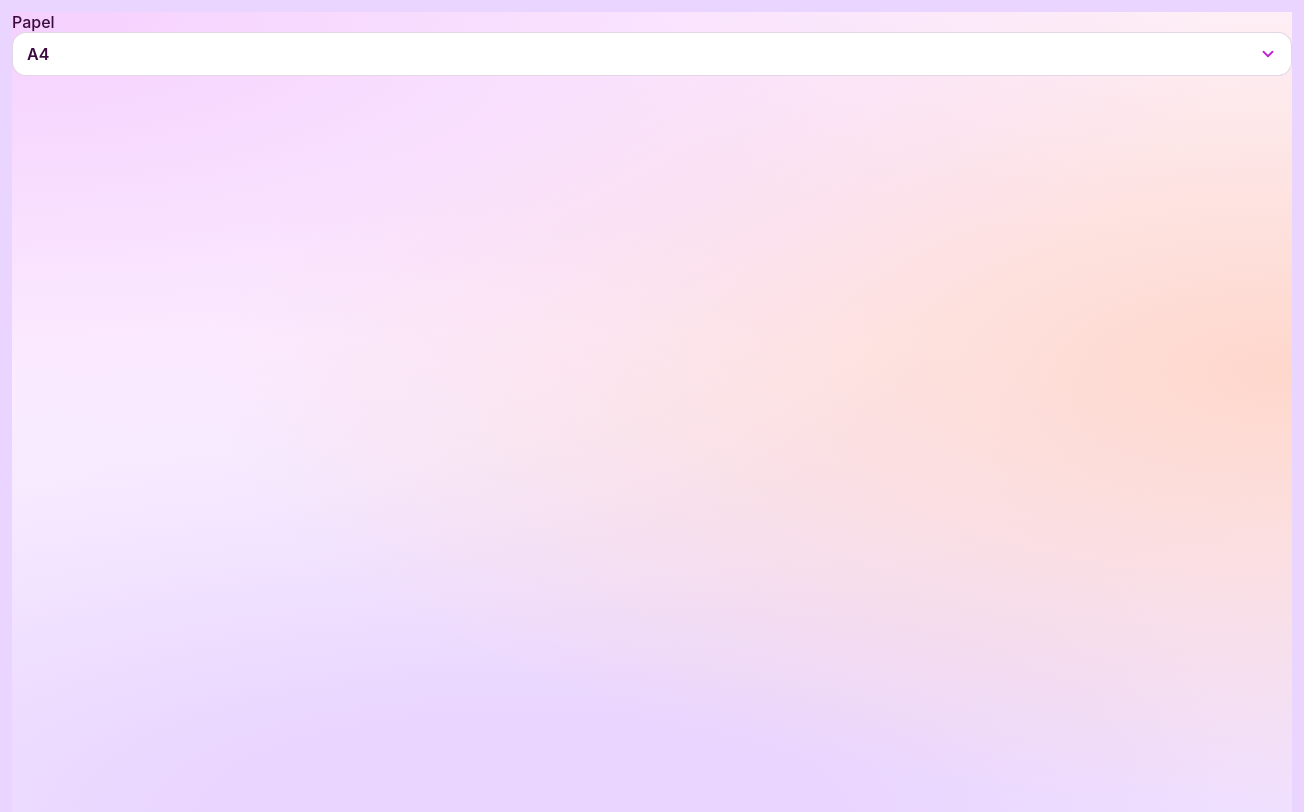
Select › shows the chosen option and opens its list on a tap
The width and height of the screenshot is (1304, 812).
Click the dropdown named "Papel".
click(38, 54)  # box [12,32,1292,76]
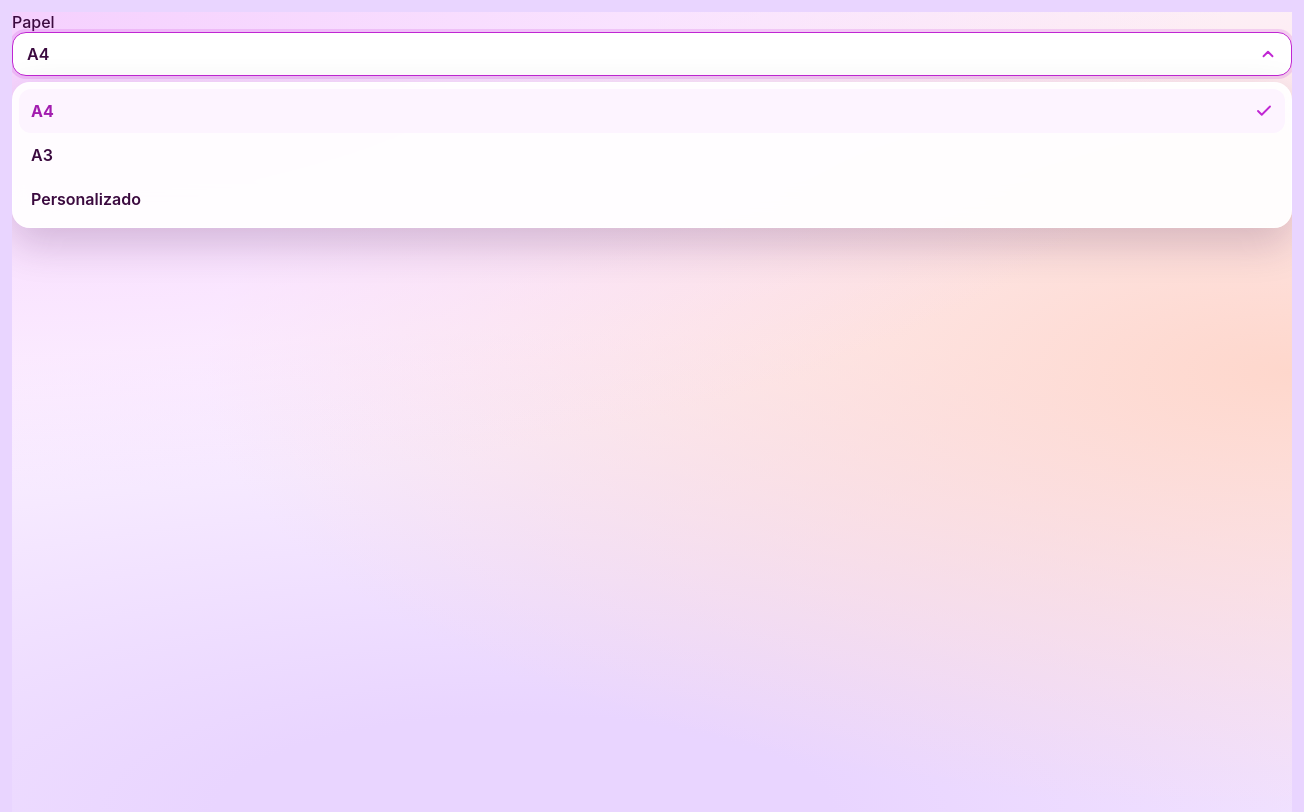
Expected: the dropdown named "Papel" is expanded, [12,32,1292,76]
Click the option "A3".
click(42, 155)  # box [31,145,53,165]
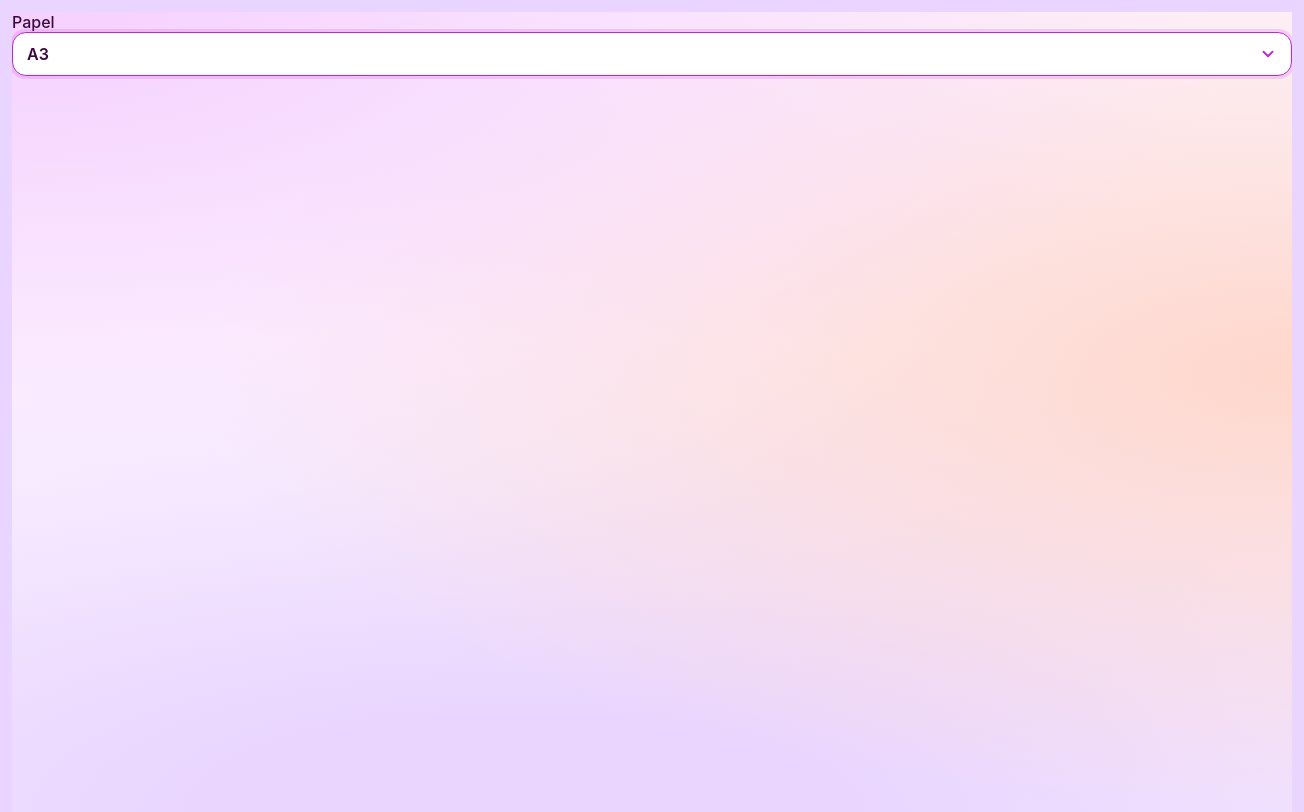
Expected: the dropdown named "Papel" reads "A3", [12,32,1292,76]
Expected: the list is gone
